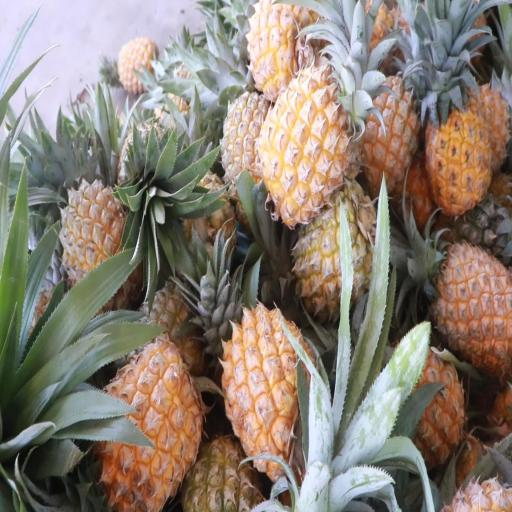------------------------------: (296, 192, 379, 323)
Pineapple - v8 v1: (89, 341, 205, 504), (225, 309, 311, 466), (265, 70, 351, 218), (383, 346, 465, 471), (423, 240, 512, 355), (356, 64, 421, 186), (426, 96, 491, 212), (250, 0, 320, 97)
